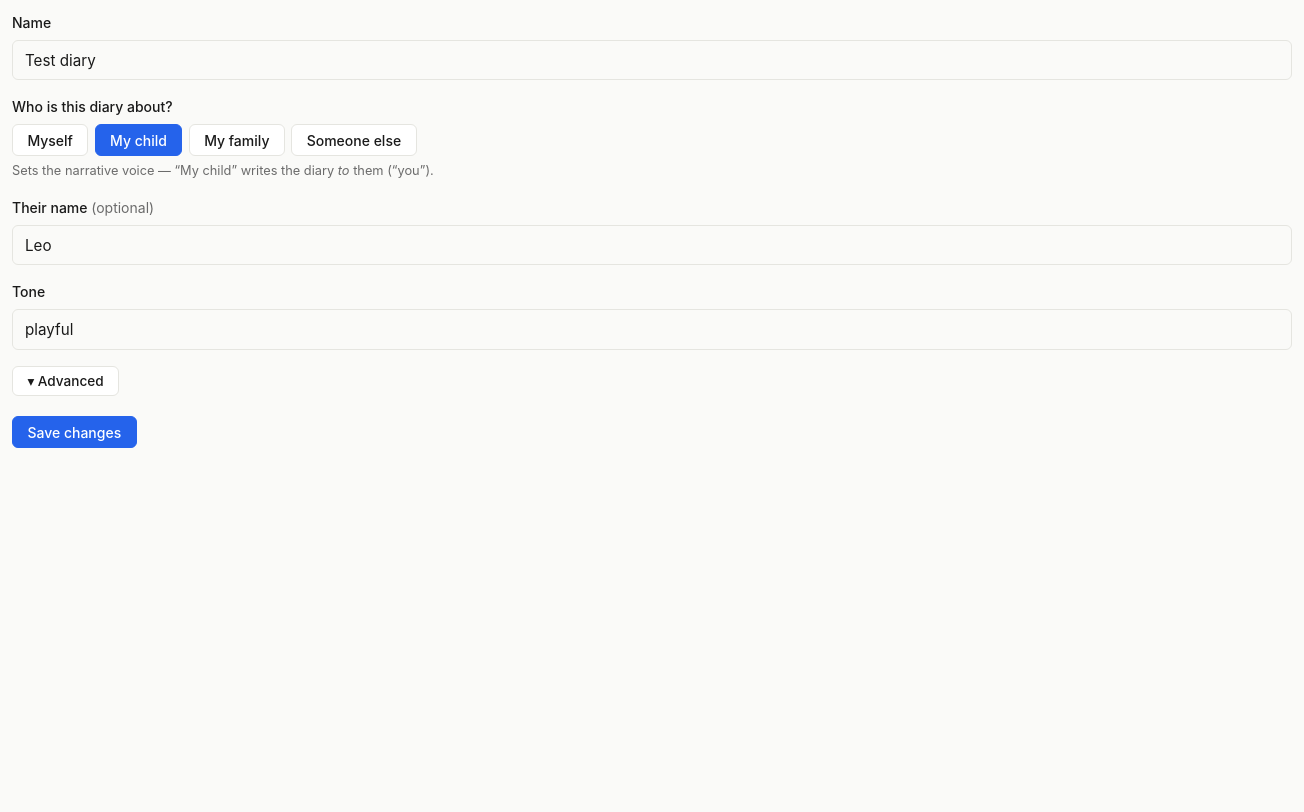
Test: DiaryForm — edit mode pre-fill › pre-fills all fields from initialValues in edit mode
Expected: the field labelled "Name" holds "Test diary", [12,40,1292,80]
Expected: the field labelled "Their name (optional)" holds "Leo", [12,225,1292,265]
Note: Advanced section should show pre-filled values
Click the button "▾ Advanced" at (66, 381), box [12,366,119,396]
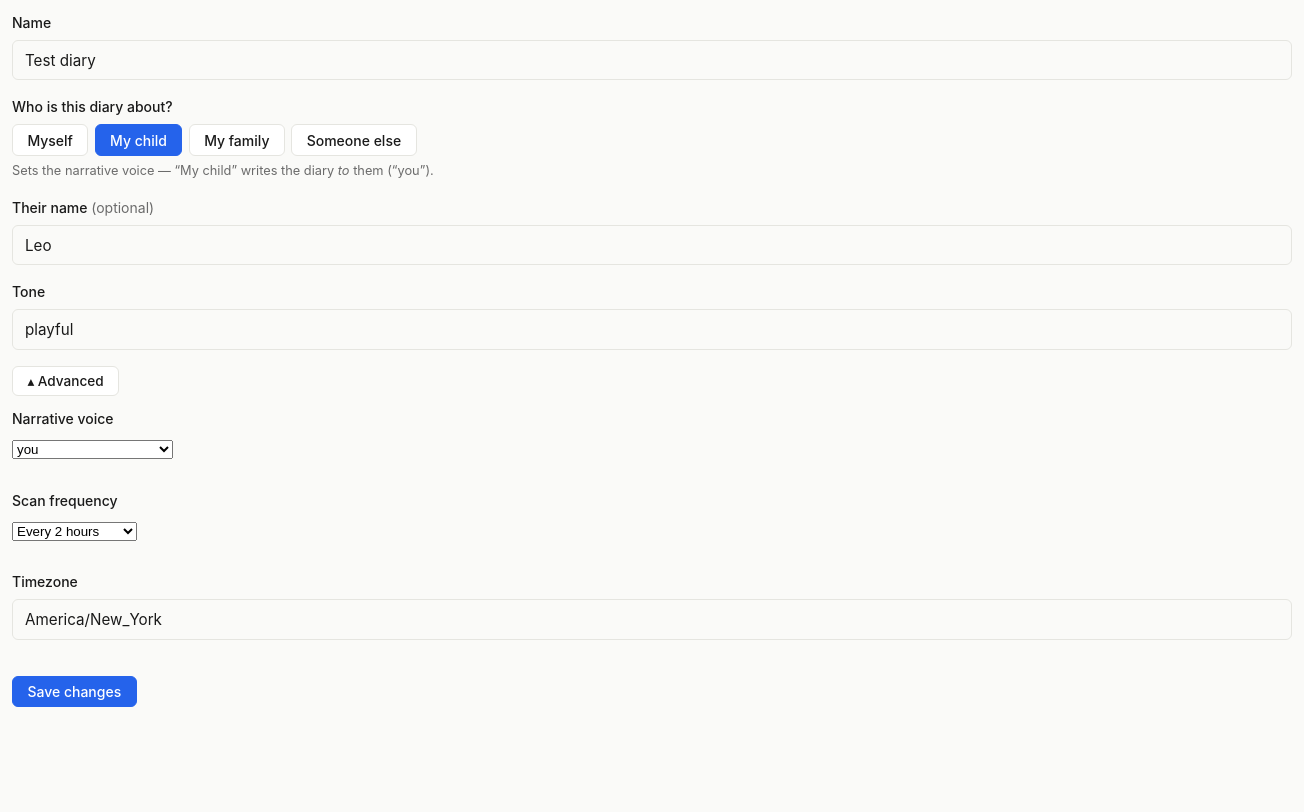
Expected: the dropdown labelled "Narrative voice" shows "you", [12,440,173,459]
Expected: the dropdown labelled "Scan frequency" shows "Every 2 hours", [12,522,137,541]
Expected: the field labelled "Timezone" holds "America/New_York", [12,600,1292,640]
